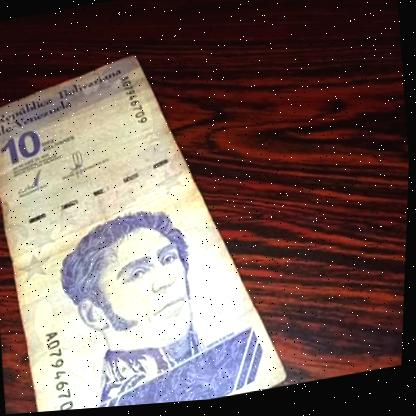ten-front-vef: (0, 29, 318, 416)
